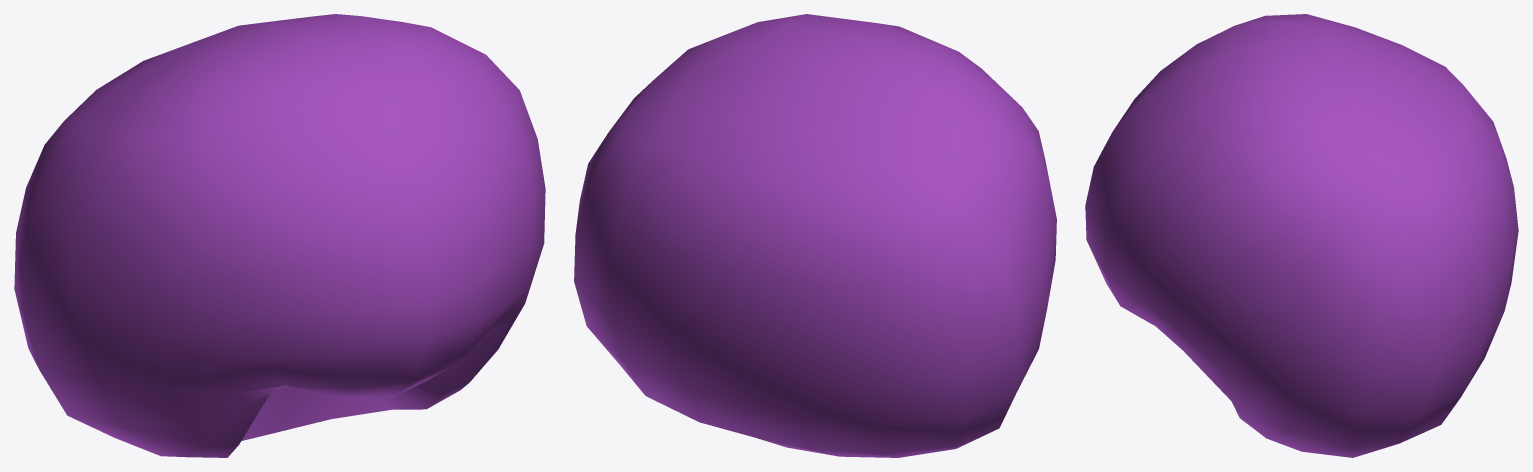
Rendered from Disco_Hairs_03.fbx.
The picture shows the model from 3 angles, left to right: view 1: azimuth 30°, elevation 25°; view 2: azimuth 150°, elevation 25°; view 3: azimuth 270°, elevation 25°; orthographic projection. The views are drawn at different scales.
Parts seen in each view (by area): view 1: Disco_Hairs_03; view 2: Disco_Hairs_03; view 3: Disco_Hairs_03.
Boxes of the visible parts, x1,y1,x2,y2 form: Disco_Hairs_03: (14,14,545,457); Disco_Hairs_03: (574,14,1056,457); Disco_Hairs_03: (1085,14,1518,457).
Size of the model in its own units: 117 by 96.92 by 103.
